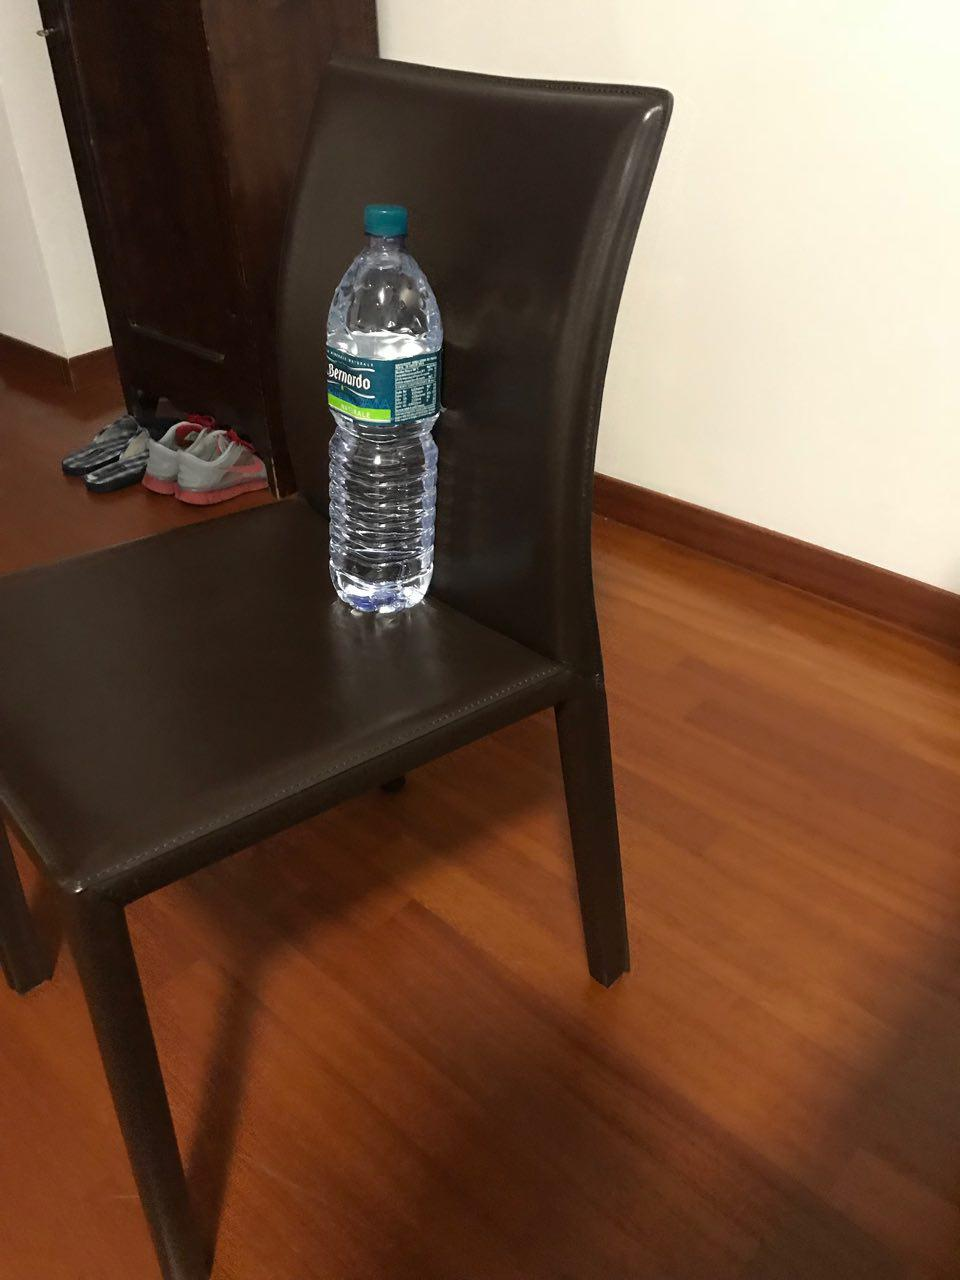san_bernardo: (325, 203, 443, 615)
